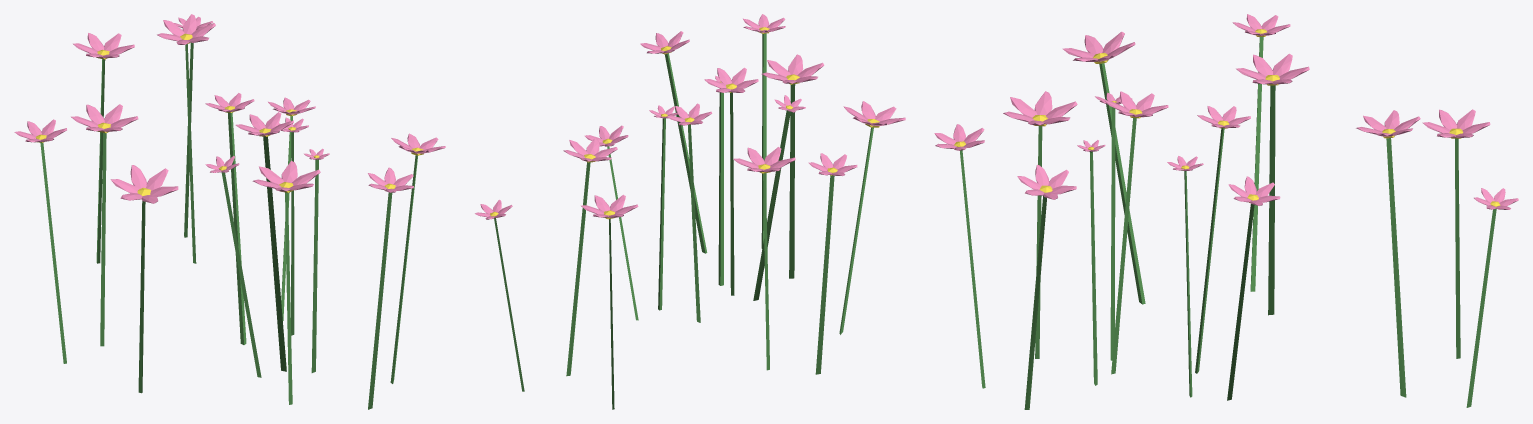
Rendered from SM_Env_Flowers_Custom_01.fbx.
3 renders of one model, left to right at view 1: azimuth 30°, elevation 25°; view 2: azimuth 150°, elevation 25°; view 3: azimuth 270°, elevation 25°, orthographic. The views are drawn at different scales.
Visible parts, largest first — view 1: Flower_Work; view 2: Flower_Work; view 3: Flower_Work.
Boxes of the visible parts, left/top/right/bottom form: Flower_Work: left=14, top=14, right=445, bottom=409; Flower_Work: left=475, top=14, right=905, bottom=409; Flower_Work: left=934, top=14, right=1518, bottom=409.
Bounding box in the file's own units: 104 × 75.69 × 149.
